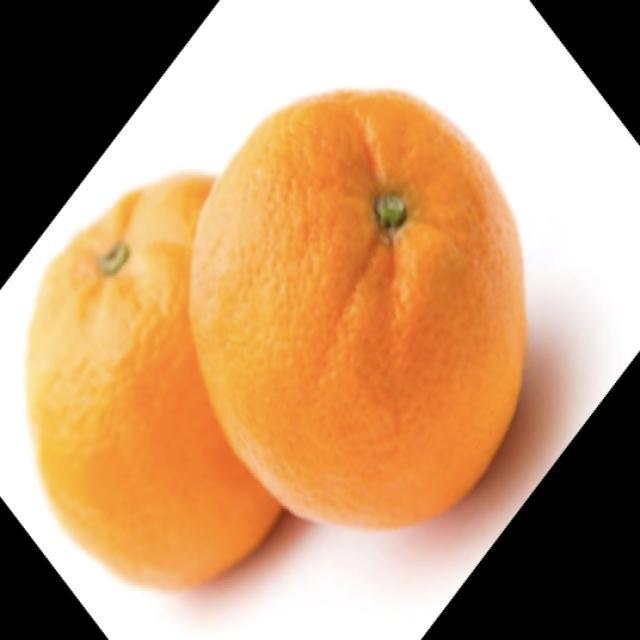Orange: (187, 87, 528, 530), (24, 170, 284, 590)
